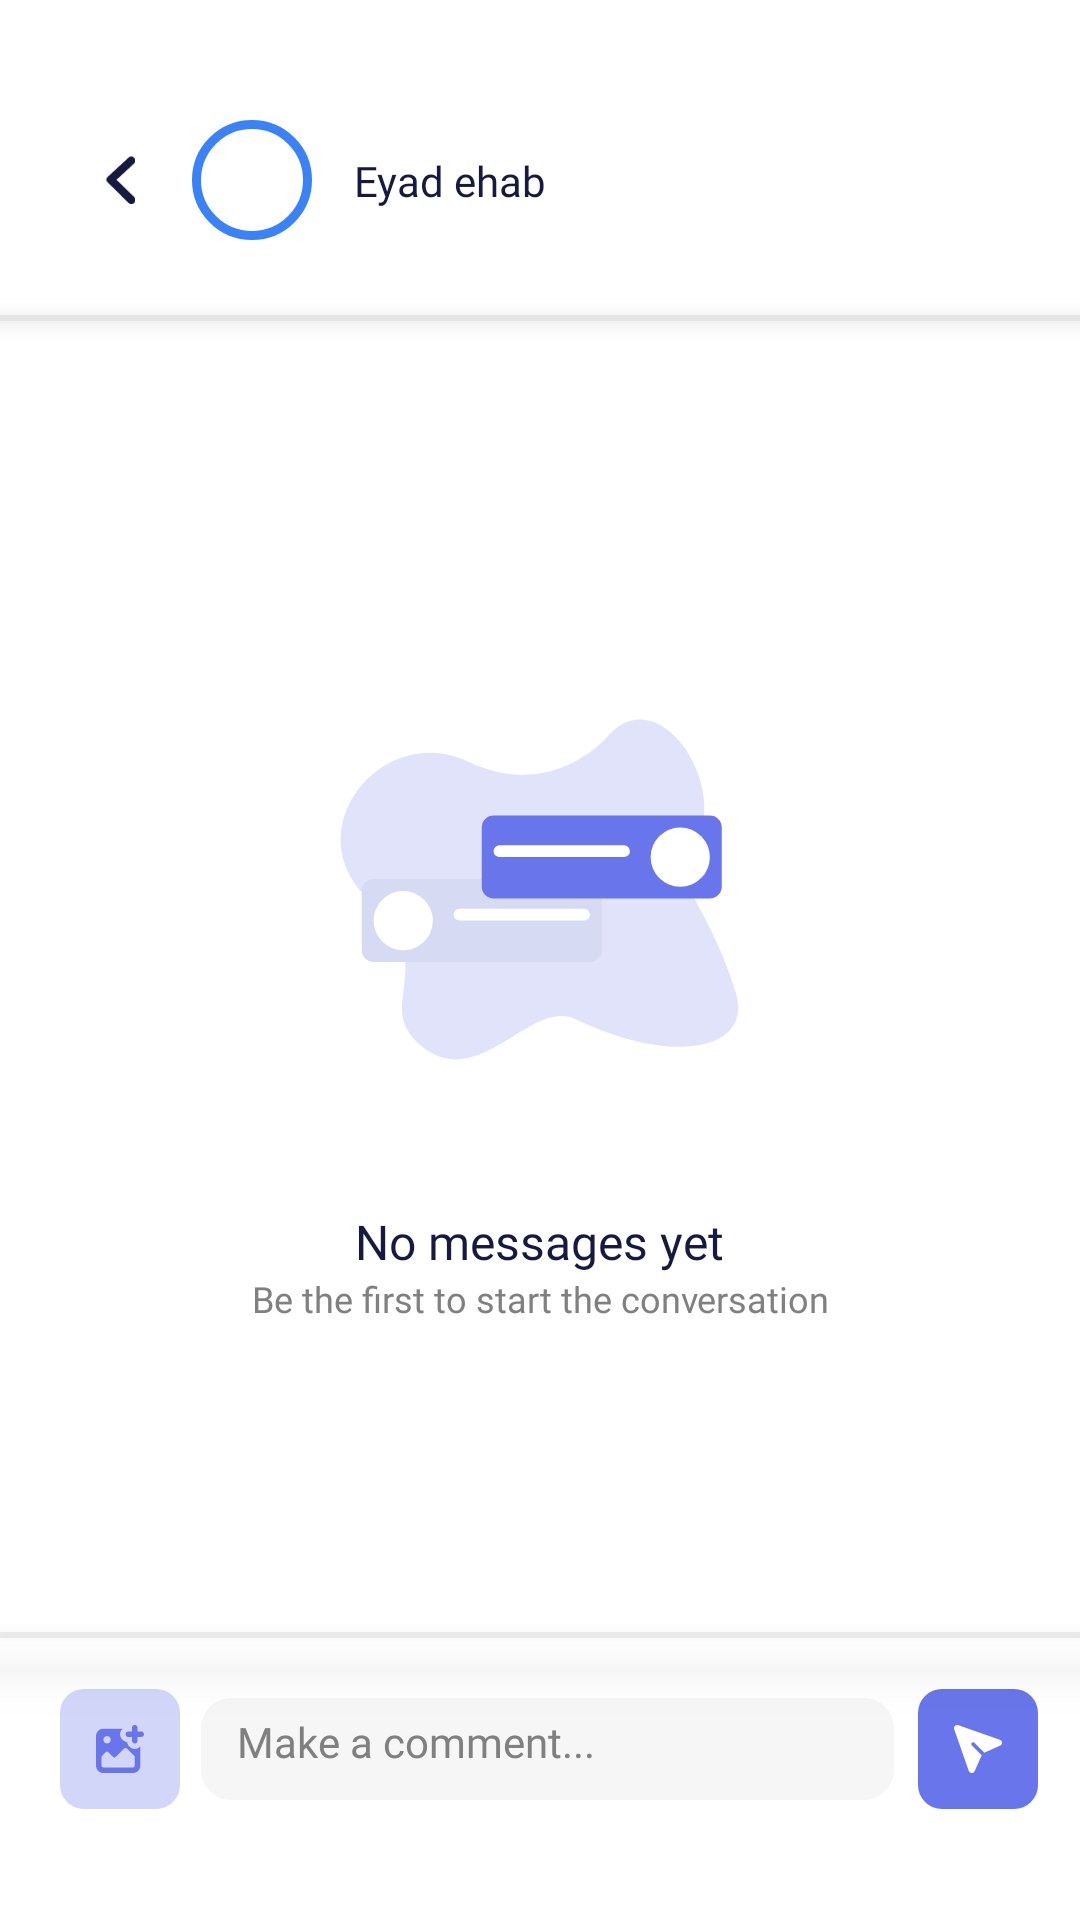

Locate icon controls on the screen. Image size 1080×1920, boxes as bbox(x1, y1, x2, y2).
send: bbox(918, 1689, 1038, 1809)
